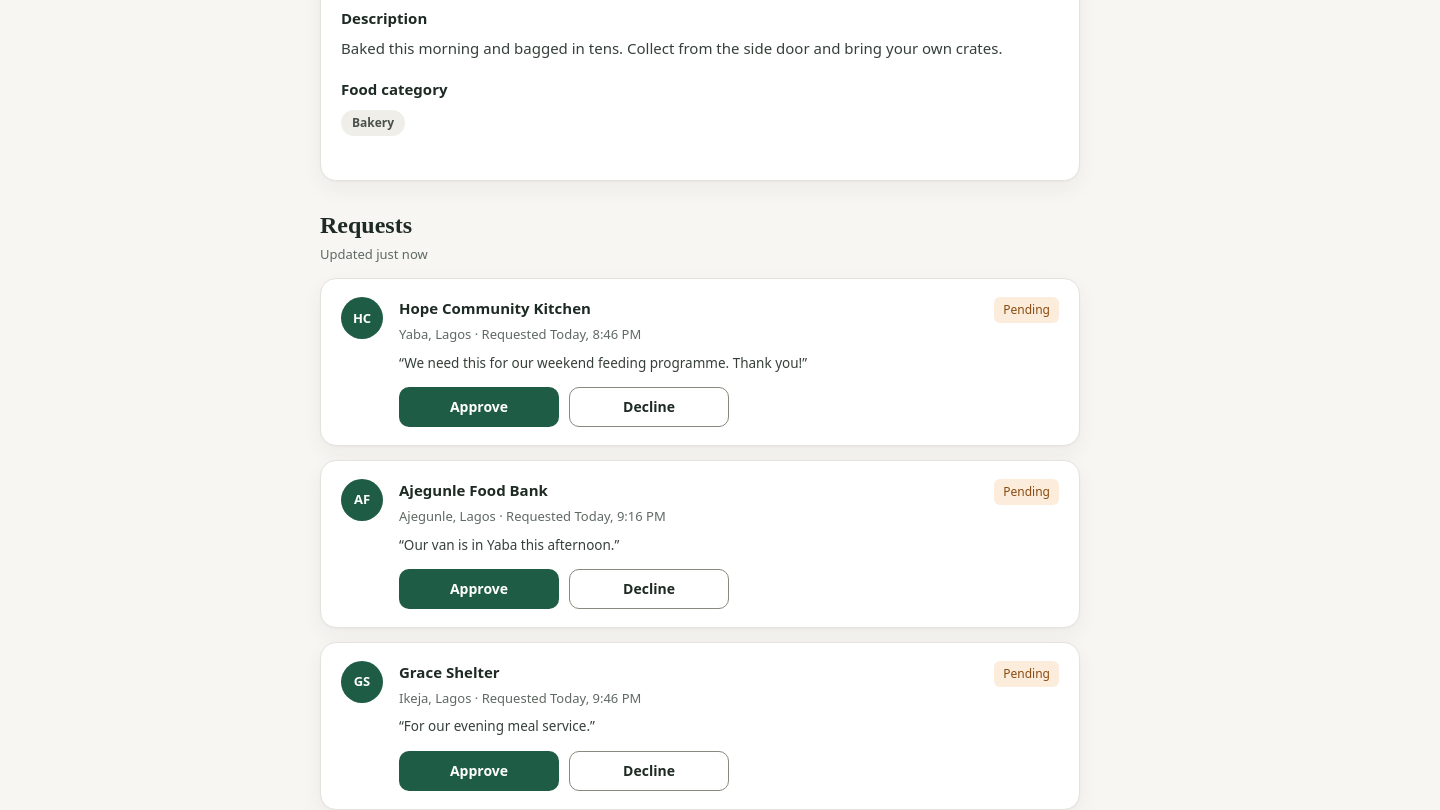
Test: Listing details (donor): approving › updates the panel at once, before the service answers, then says "Request approved"
(page scrolled)
Expected: the heading "Hope Community Kitchen" is shown, [399, 297, 591, 320]
Click the button "Approve" below "Yaba, Lagos ·" at (479,407), box [399, 387, 559, 427]
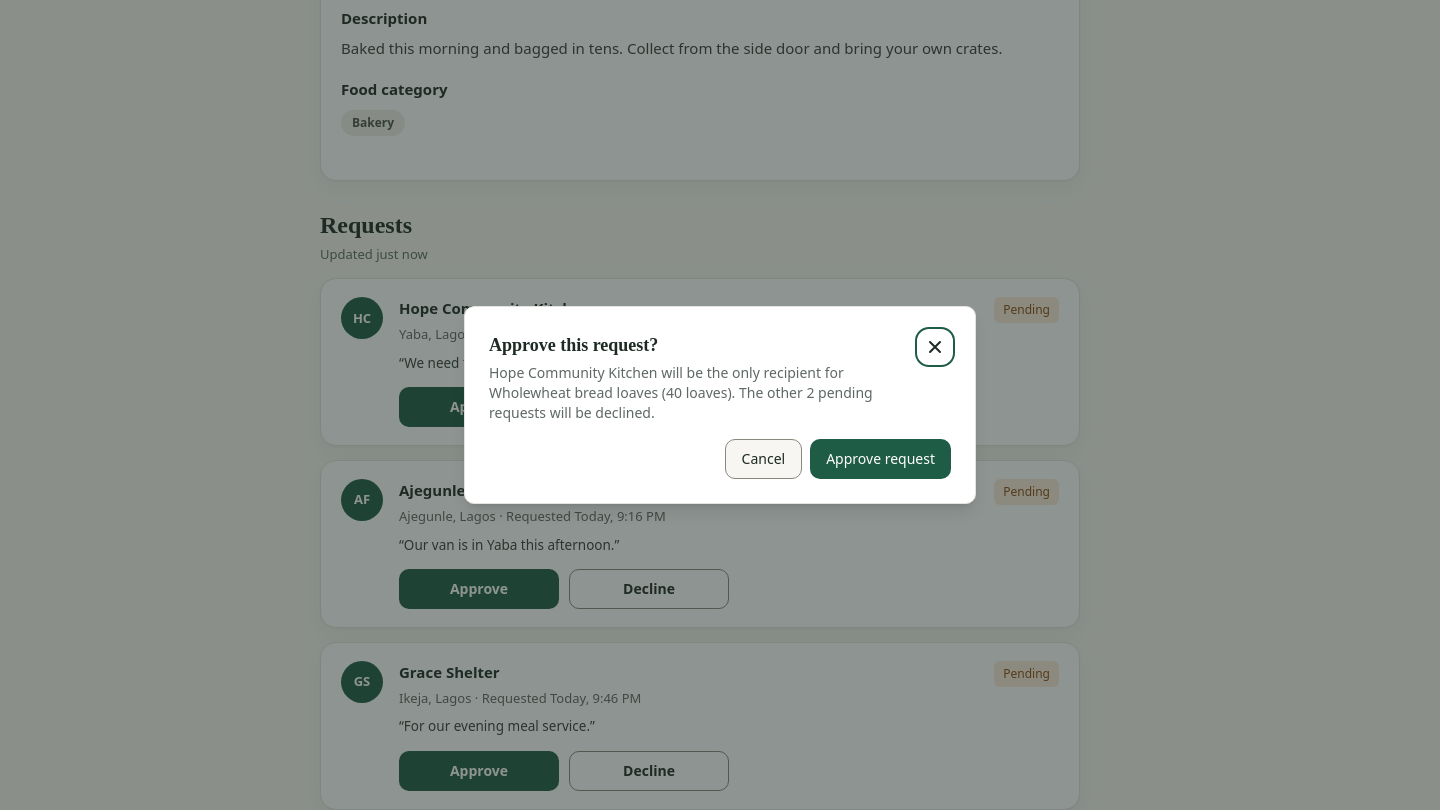
Click the button "Approve request" at (881,459), box [810, 439, 951, 479]
(page scrolled)
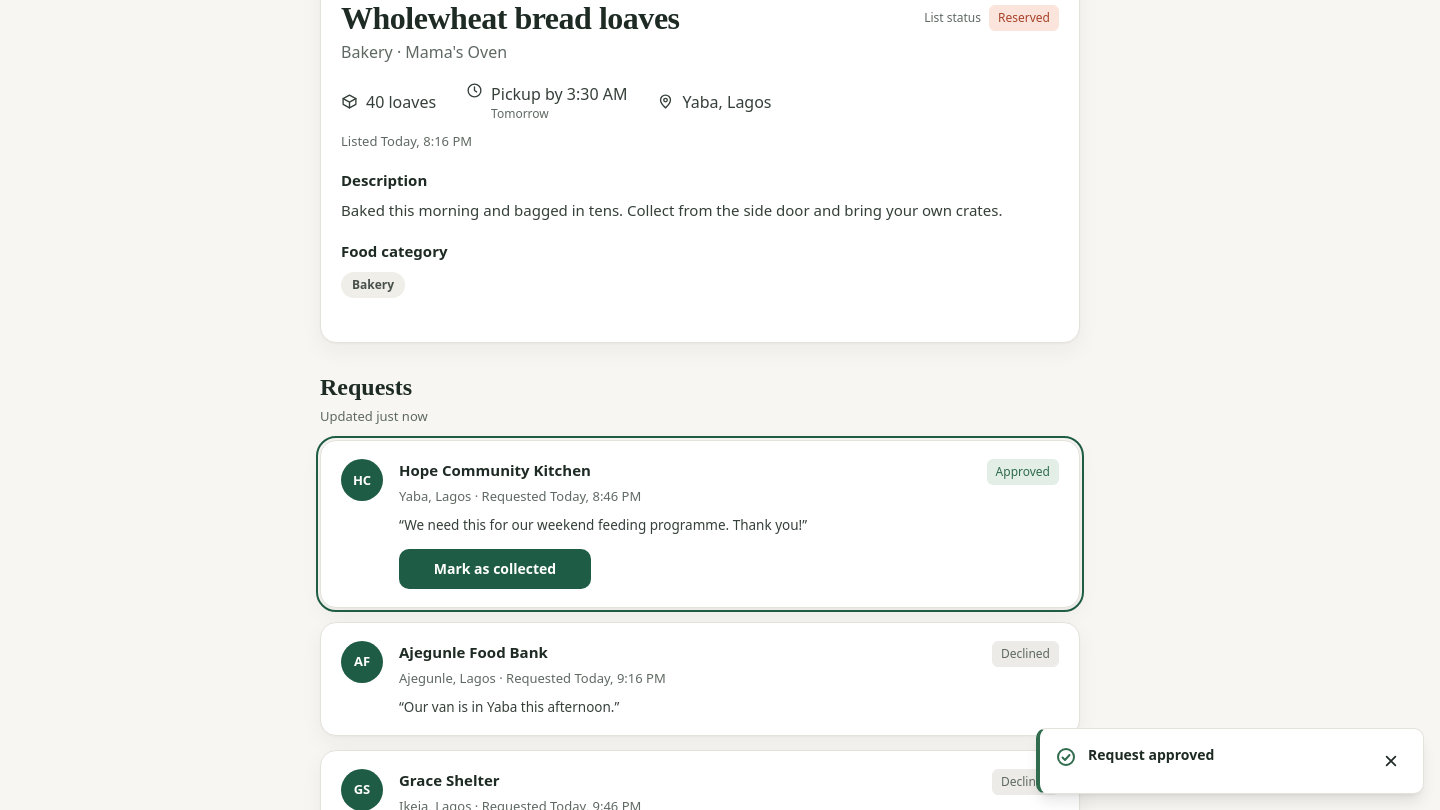
Result: the text "Approved" is shown at [996, 462, 1050, 482]
Result: the text "Declined" is shown at [1001, 644, 1050, 664]
Result: the text "Reserved" is shown at [998, 8, 1050, 28]
